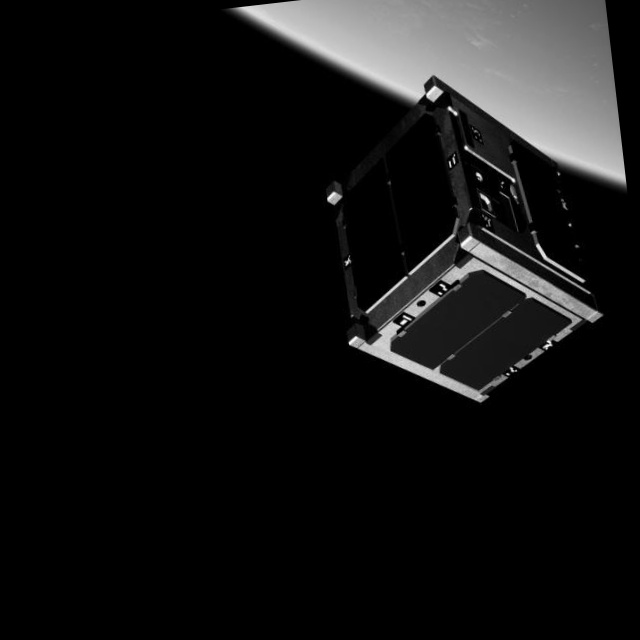medium_debris: (310, 56, 613, 414)
